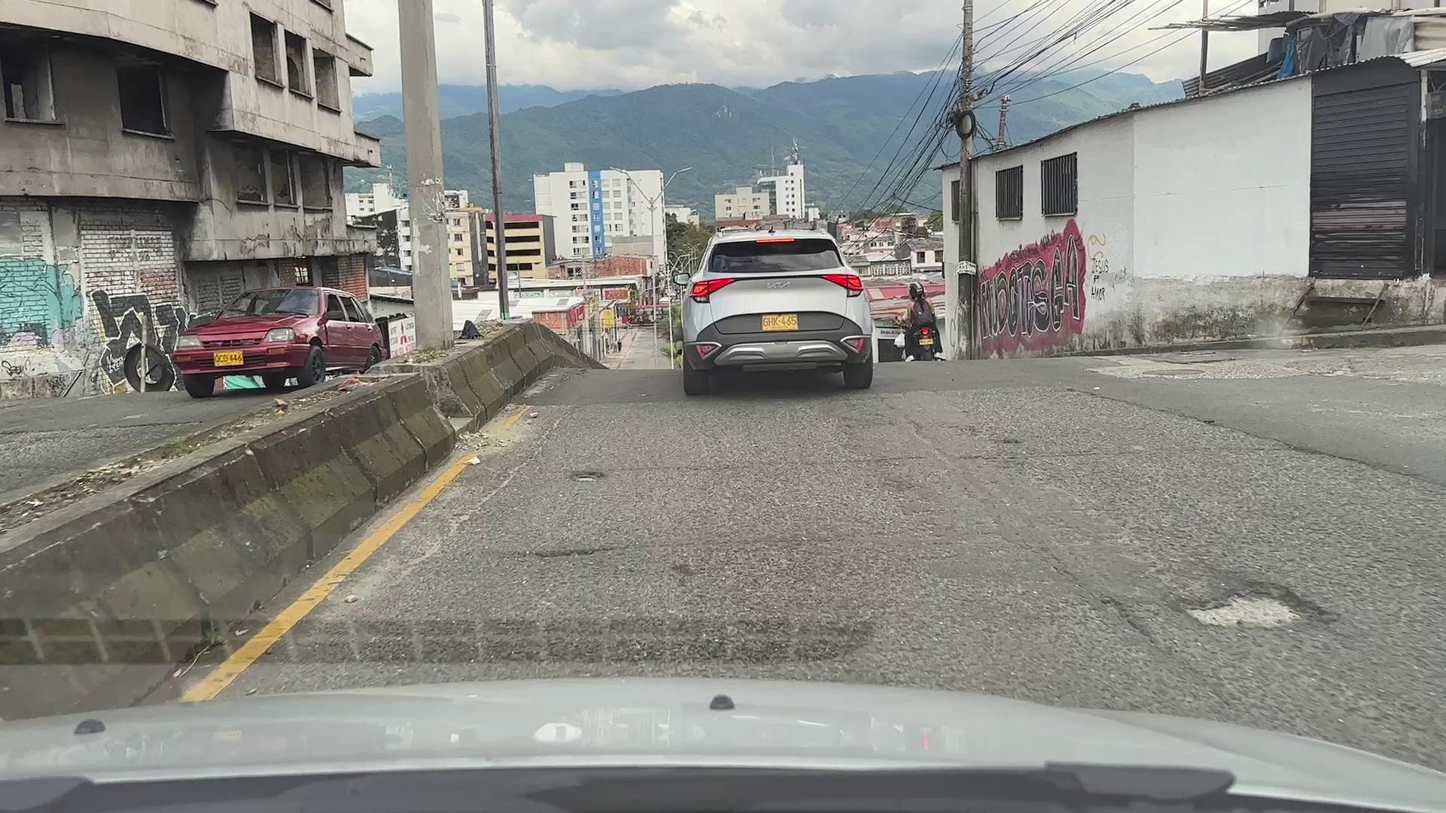bache: (1182, 583, 1335, 628), (523, 547, 616, 559), (569, 470, 604, 482)
